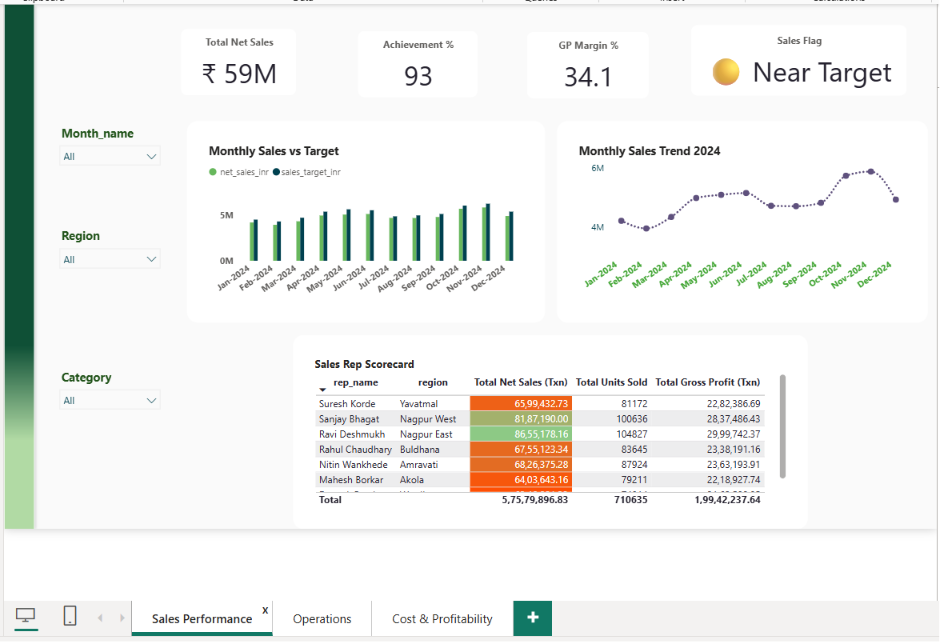

What the dashboard file says about the page in this screenshot:
{"tool":"powerbi","page":{"name":"Sales  Performance","canvas":[1280,720],"ordinal":0},"visuals":[{"type":"lineChart","title":"Monthly Sales Trend 2024","fields":{"Category":["public monthly_kpi.month_name"],"Y":["public monthly_kpi.Total Net Sales"]},"box":[758.8,160.5,509.1,277.2],"z":0},{"type":"cardVisual","fields":{"Data":["public monthly_kpi.Total Net Sales"]},"box":[214.1,5.5,216.8,149.6],"z":1000},{"type":"cardVisual","fields":{"Data":["public monthly_kpi.GP Margin %"]},"box":[688.9,9.6,225,149.6],"z":2000},{"type":"cardVisual","fields":{"Data":["public monthly_kpi.Sales Flag"]},"box":[913.9,0,354,155.1],"z":3000},{"type":"clusteredColumnChart","title":"Monthly Sales vs Target","fields":{"Category":["public monthly_kpi.month_name"],"Y":["Sum(public monthly_kpi.net_sales_inr)","Sum(public monthly_kpi.sales_target_inr)"]},"box":[251.1,160.5,491.3,277.2],"z":4000},{"type":"tableEx","title":"Sales Rep Scorecard","fields":{"Values":["public vw_sales_dashboard.rep_name","public vw_sales_dashboard.region","public vw_sales_dashboard.Total Net Sales (Txn)","public vw_sales_dashboard.Total Units Sold","public vw_sales_dashboard.Total Gross Profit (Txn)"]},"box":[396.6,454.2,706.7,266.2],"z":5000},{"type":"cardVisual","fields":{"Data":["public monthly_kpi.Achievement %"]},"box":[456.9,8.2,222.3,149.6],"z":6000},{"type":"slicer","fields":{"Values":["public monthly_kpi.month_name"]},"box":[65.9,160.5,159.2,104.3],"z":7000},{"type":"slicer","fields":{"Values":["public vw_sales_dashboard.region"]},"box":[65.9,301.9,159.2,113.9],"z":8000},{"type":"slicer","fields":{"Values":["public vw_sales_dashboard.category"]},"box":[65.9,495.4,159.2,113.9],"z":9000}]}

Visuals, with their boxes on the page's 1280x720 design canvas (x1, y1, x2, y2). These are canvas units, not pixel positions in the 940x642 screenshot, which may show the page scaled, cropped or inside an application window:
"Monthly Sales Trend 2024" lineChart: pyautogui.locateOnScreen(759, 160, 1268, 438)
cardVisual - public monthly_kpi.Total Net Sales: pyautogui.locateOnScreen(214, 6, 431, 155)
cardVisual - public monthly_kpi.GP Margin %: pyautogui.locateOnScreen(689, 10, 914, 159)
cardVisual - public monthly_kpi.Sales Flag: pyautogui.locateOnScreen(914, 0, 1268, 155)
"Monthly Sales vs Target" clusteredColumnChart: pyautogui.locateOnScreen(251, 160, 742, 438)
"Sales Rep Scorecard" tableEx: pyautogui.locateOnScreen(397, 454, 1103, 720)
cardVisual - public monthly_kpi.Achievement %: pyautogui.locateOnScreen(457, 8, 679, 158)
slicer - public monthly_kpi.month_name: pyautogui.locateOnScreen(66, 160, 225, 265)
slicer - public vw_sales_dashboard.region: pyautogui.locateOnScreen(66, 302, 225, 416)
slicer - public vw_sales_dashboard.category: pyautogui.locateOnScreen(66, 495, 225, 609)
